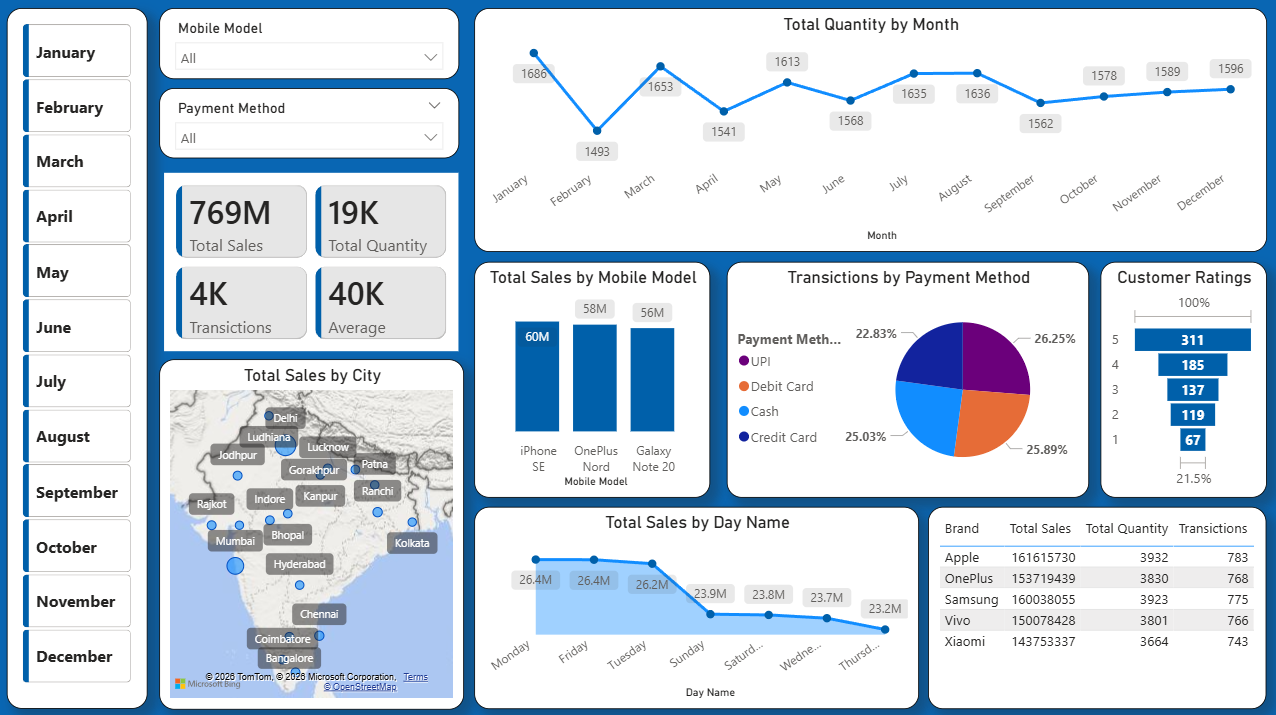

This screenshot's page, from the dashboard's own definition file:
{"tool":"powerbi","page":{"name":"Dashboard","canvas":[1280,720],"ordinal":0},"visuals":[{"type":"shape","box":[8.4,9.7,141.2,700.9],"z":0},{"type":"advancedSlicerVisual","fields":{"Values":["Sales Data.Date.Variation.Date Hierarchy.Month"]},"box":[20.5,21.7,118.2,678],"z":1000},{"type":"cardVisual","fields":{"Data":["Sales Data.Total Sales","Sales Data.Total Quantity","Sales Data.Transictions","Sales Data.Average"]},"box":[161.2,170,305,188.8],"z":2000},{"type":"map","fields":{"Category":["Sales Data.City"],"Size":["Sales Data.Total Sales"]},"box":[161.2,361.2,305,350],"z":3000},{"type":"lineChart","fields":{"Category":["Sales Data.Date.Variation.Date Hierarchy.Month","Sales Data.Date.Variation.Date Hierarchy.Day"],"Y":["Sales Data.Total Quantity"]},"box":[476.2,10,792.5,243.8],"z":4000},{"type":"clusteredColumnChart","fields":{"Category":["Sales Data.Mobile Model"],"Y":["Sales Data.Total Sales"]},"box":[476.2,263.8,236.2,236.2],"z":5000},{"type":"pieChart","fields":{"Category":["Sales Data.Payment Method"],"Y":["Sales Data.Transictions"]},"box":[728.8,263.8,362.5,236.2],"z":6000},{"type":"funnel","title":"Customer Ratings","fields":{"Category":["Sales Data.Customer Ratings"],"Y":["CountNonNull(Sales Data.Customer Ratings)"]},"box":[1102.5,263.8,166.2,236.2],"z":7000},{"type":"areaChart","fields":{"Category":["Sales Data.Day Name"],"Y":["Sales Data.Total Sales"]},"box":[476.2,508.8,445,202.5],"z":8000},{"type":"tableEx","fields":{"Values":["Sales Data.Brand","Sales Data.Total Sales","Sales Data.Total Quantity","Sales Data.Transictions"]},"box":[930,508.8,338.8,202.5],"z":9000},{"type":"slicer","fields":{"Values":["Sales Data.Mobile Model"]},"box":[161.2,10,300,71.2],"z":10000},{"type":"slicer","fields":{"Values":["Sales Data.Payment Method"]},"box":[161.2,90,300,70],"z":11000}]}

Visuals, with their boxes in screenshot pixels (x1, y1, x2, y2), scaled from the page's 1280x720 canvas onto the 1276x715 screenshot:
shape: box=[8, 10, 149, 706]
advancedSlicerVisual - Sales Data.Date.Variation.Date Hierarchy.Month: box=[20, 22, 138, 695]
cardVisual - Sales Data.Total Sales x Sales Data.Total Quantity: box=[161, 169, 465, 356]
map - Sales Data.City x Sales Data.Total Sales: box=[161, 359, 465, 706]
lineChart - Sales Data.Date.Variation.Date Hierarchy.Month x Sales Data.Date.Variation.Date Hierarchy.Day: box=[475, 10, 1265, 252]
clusteredColumnChart - Sales Data.Mobile Model x Sales Data.Total Sales: box=[475, 262, 710, 497]
pieChart - Sales Data.Payment Method x Sales Data.Transictions: box=[727, 262, 1088, 497]
"Customer Ratings" funnel: box=[1099, 262, 1265, 497]
areaChart - Sales Data.Day Name x Sales Data.Total Sales: box=[475, 505, 918, 706]
tableEx - Sales Data.Brand x Sales Data.Total Sales: box=[927, 505, 1265, 706]
slicer - Sales Data.Mobile Model: box=[161, 10, 460, 81]
slicer - Sales Data.Payment Method: box=[161, 89, 460, 159]
